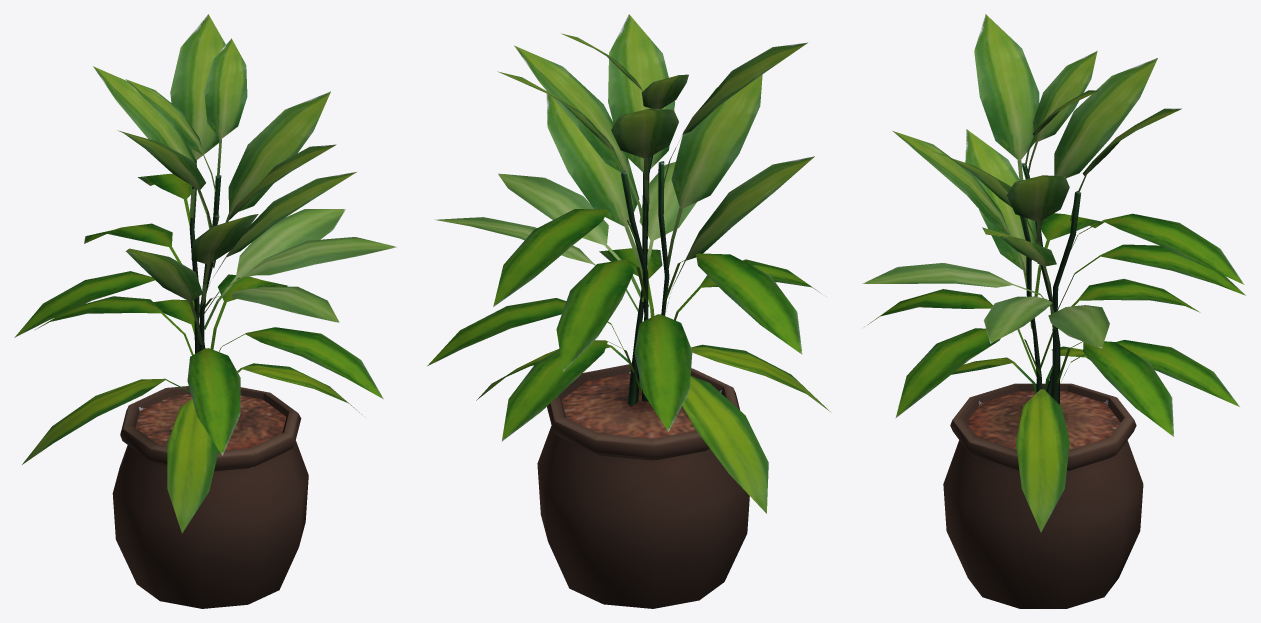
File: JianKongJieDao_01_penzai_01.FBX
3 views of the same model, side by side, from view 1: azimuth 30°, elevation 25°; view 2: azimuth 150°, elevation 25°; view 3: azimuth 270°, elevation 25° (orthographic). The views are drawn at different scales.
Visible parts, largest first — view 1: JianKongJieDao_01_penzai_01; view 2: JianKongJieDao_01_penzai_01; view 3: JianKongJieDao_01_penzai_01.
Part boxes in pixels (box(x1,y1,x2,y2)): JianKongJieDao_01_penzai_01: box(14, 14, 397, 608); JianKongJieDao_01_penzai_01: box(427, 14, 830, 608); JianKongJieDao_01_penzai_01: box(862, 14, 1245, 608).
Size of the model in its own units: 378 by 546 by 373.
